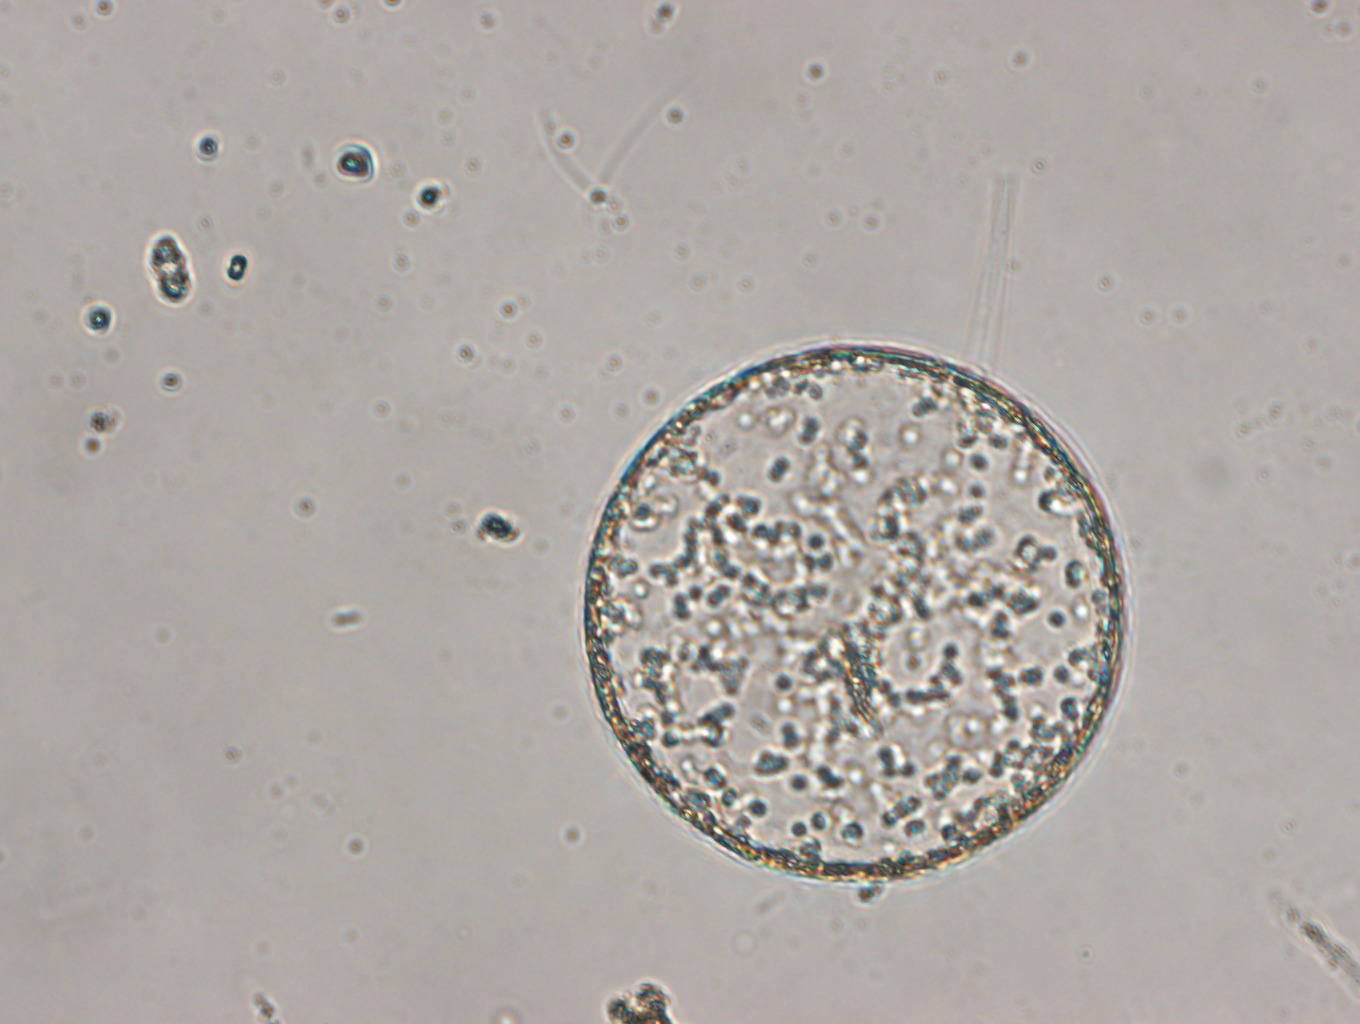coscinodiscus: (579, 335, 1129, 894)
